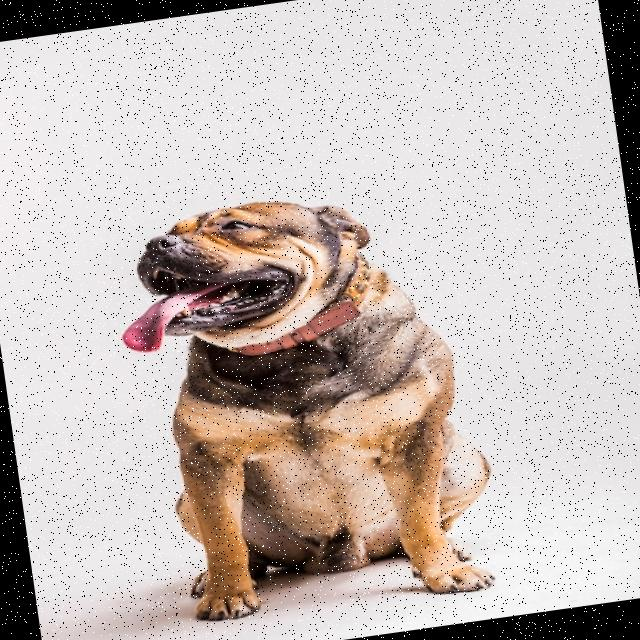Dog: (109, 174, 508, 634)
